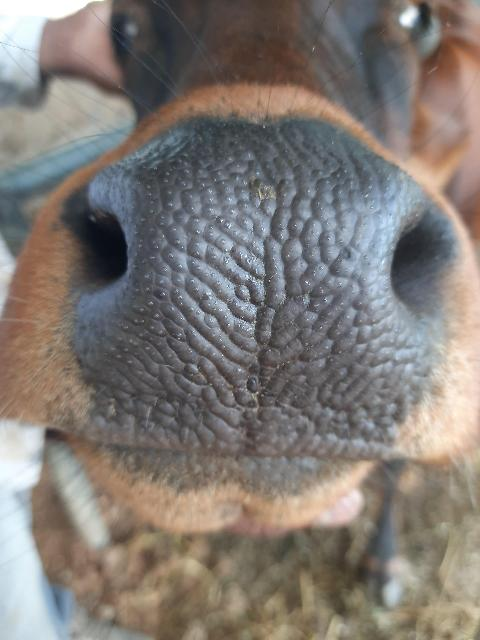Muzzle: (111, 159, 389, 445)
